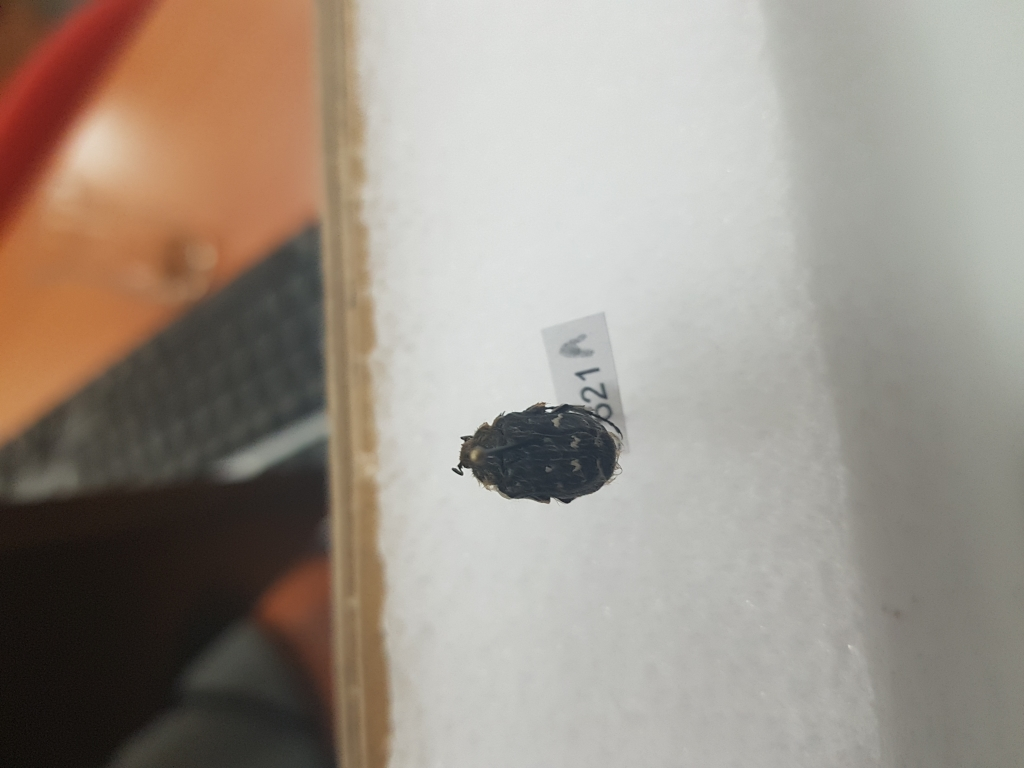Tropinota_senicula: (448, 388, 636, 512)
